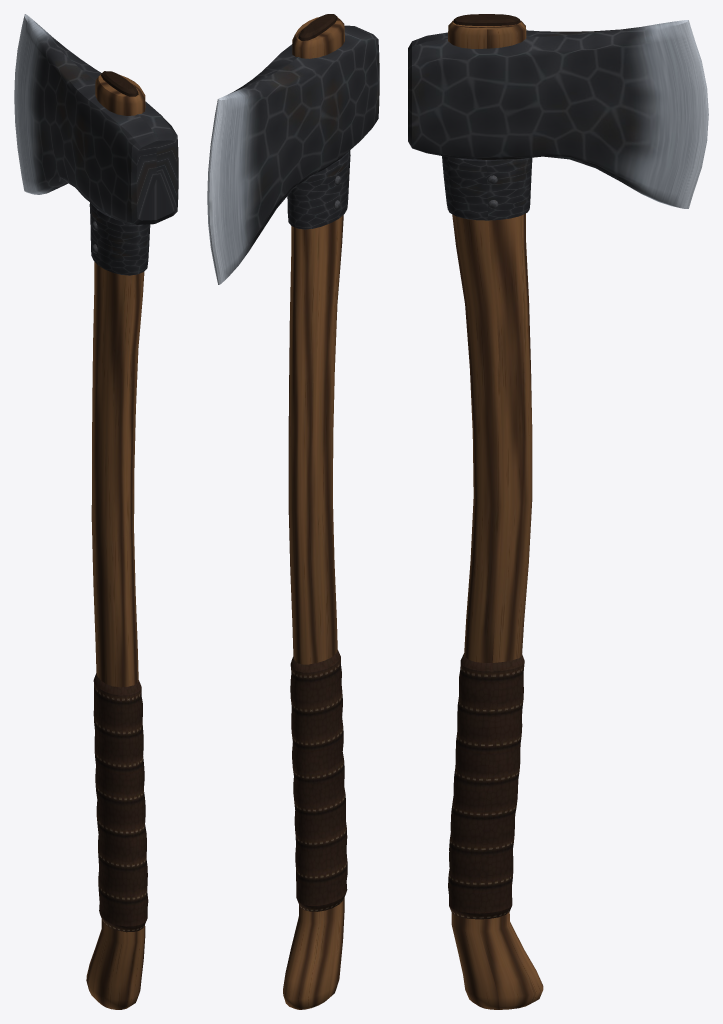
The model's file is felling_axe.glb.
3 renders of one model, left to right at view 1: azimuth 30°, elevation 25°; view 2: azimuth 150°, elevation 25°; view 3: azimuth 270°, elevation 25°, orthographic. The views are drawn at different scales.
Parts seen in each view (by area): view 1: FellingAxe_AAA; view 2: FellingAxe_AAA; view 3: FellingAxe_AAA.
Boxes of the visible parts, x1=… form: FellingAxe_AAA: x1=14, y1=14, x2=178, y2=1009; FellingAxe_AAA: x1=207, y1=14, x2=379, y2=1009; FellingAxe_AAA: x1=408, y1=14, x2=708, y2=1009.
Size of the model in its own units: 0.048 by 0.76 by 0.21.
1 material, 1 textured.
